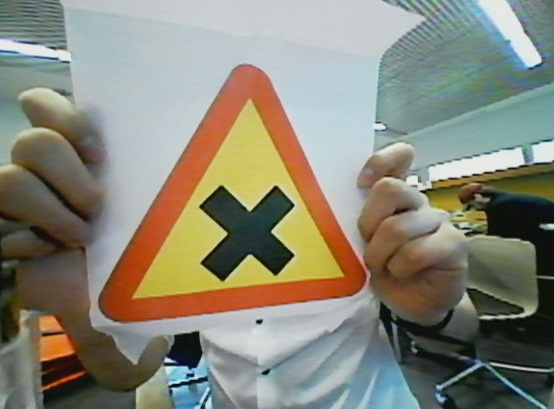junction: (76, 59, 381, 313)
